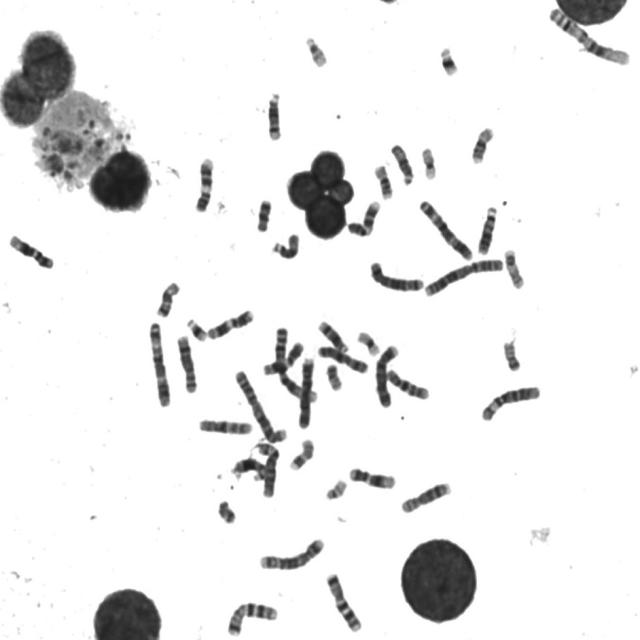A1: (546, 3, 632, 67), (271, 322, 320, 404)
A2: (231, 366, 289, 445), (421, 254, 506, 299)
A3: (416, 196, 475, 262), (146, 317, 172, 408)
B4: (372, 341, 401, 408), (295, 353, 317, 430)
B5: (257, 534, 327, 572), (366, 257, 426, 293)
C10: (382, 365, 432, 401), (196, 415, 254, 436)
C11: (256, 339, 309, 377), (204, 305, 256, 341)
C12: (5, 230, 56, 270), (345, 463, 398, 491)
C6: (478, 381, 542, 423), (254, 439, 282, 499)
C7: (323, 570, 364, 633), (223, 598, 280, 638)
C8: (398, 478, 454, 515), (173, 332, 199, 394)
C9: (345, 197, 383, 238), (192, 153, 216, 215)
D13: (475, 202, 499, 256), (230, 457, 271, 482)
D14: (315, 317, 350, 353), (264, 87, 284, 142)
D15: (388, 140, 416, 187), (269, 229, 301, 261)
E16: (468, 122, 497, 164), (371, 161, 395, 200)
E17: (502, 244, 526, 290), (287, 436, 316, 472)
E18: (153, 278, 181, 318), (254, 195, 274, 234)
F19: (354, 327, 382, 357), (419, 143, 438, 181)
F20: (500, 337, 523, 372), (324, 360, 344, 392)
G21: (436, 43, 461, 77), (184, 315, 208, 343)
G22: (302, 32, 330, 69), (322, 475, 349, 501)
X: (314, 341, 370, 375)
Y: (214, 496, 238, 525)
